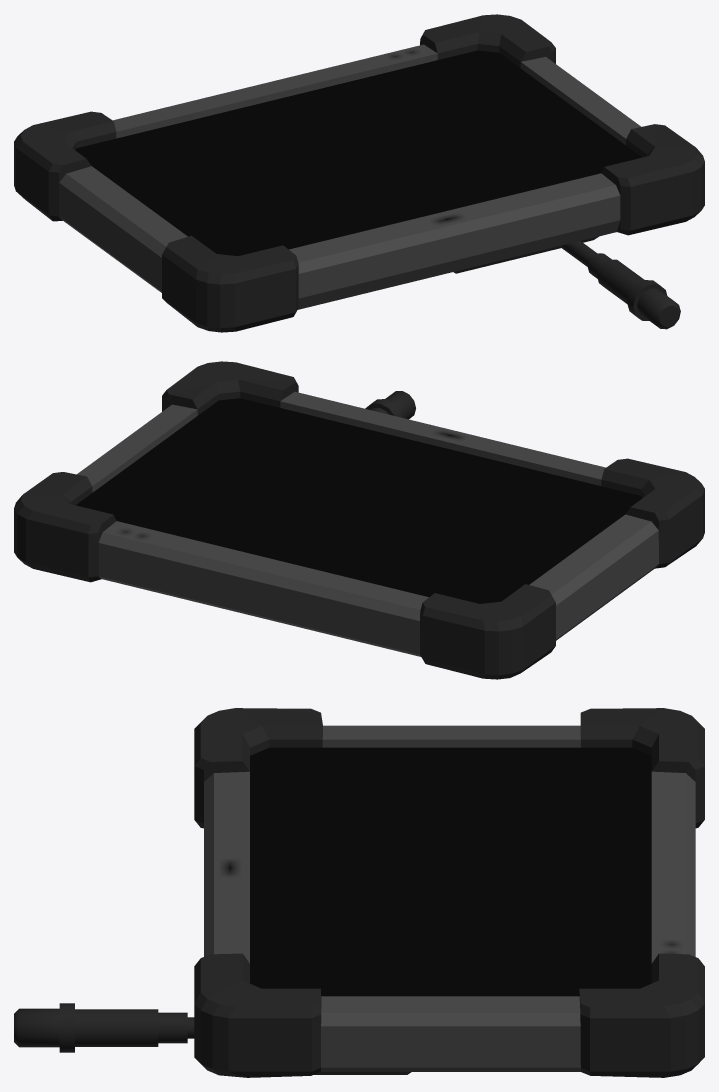
The model's file is tablet.fbx.
3 views of the same model, one above another, from view 1: azimuth 30°, elevation 25°; view 2: azimuth 150°, elevation 25°; view 3: azimuth 270°, elevation 25° (orthographic). The views are drawn at different scales.
Visible parts, largest first — view 1: Box001; view 2: Box001; view 3: Box001.
Part boxes in pixels (x1,y1,x2,y2): Box001: (14,14,704,332); Box001: (14,361,704,679); Box001: (14,708,704,1077).
Size of the model in its own units: 36.66 by 6.43 by 35.24.
1 material, 1 textured.
